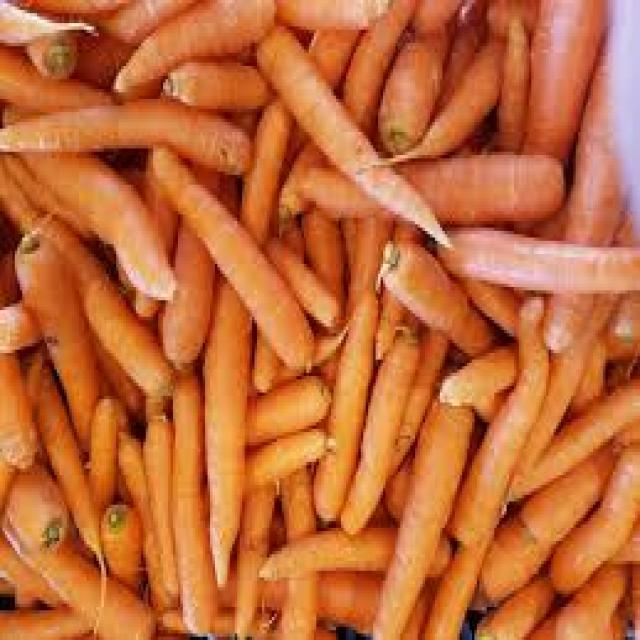Fresh_Carrot: (0, 3, 638, 640)
